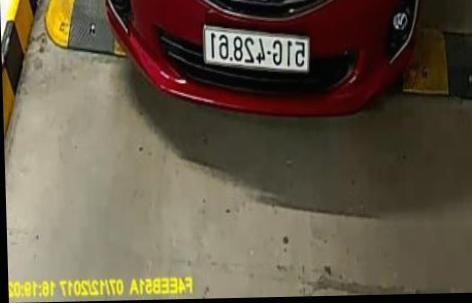License_Plate: (195, 28, 319, 84)
